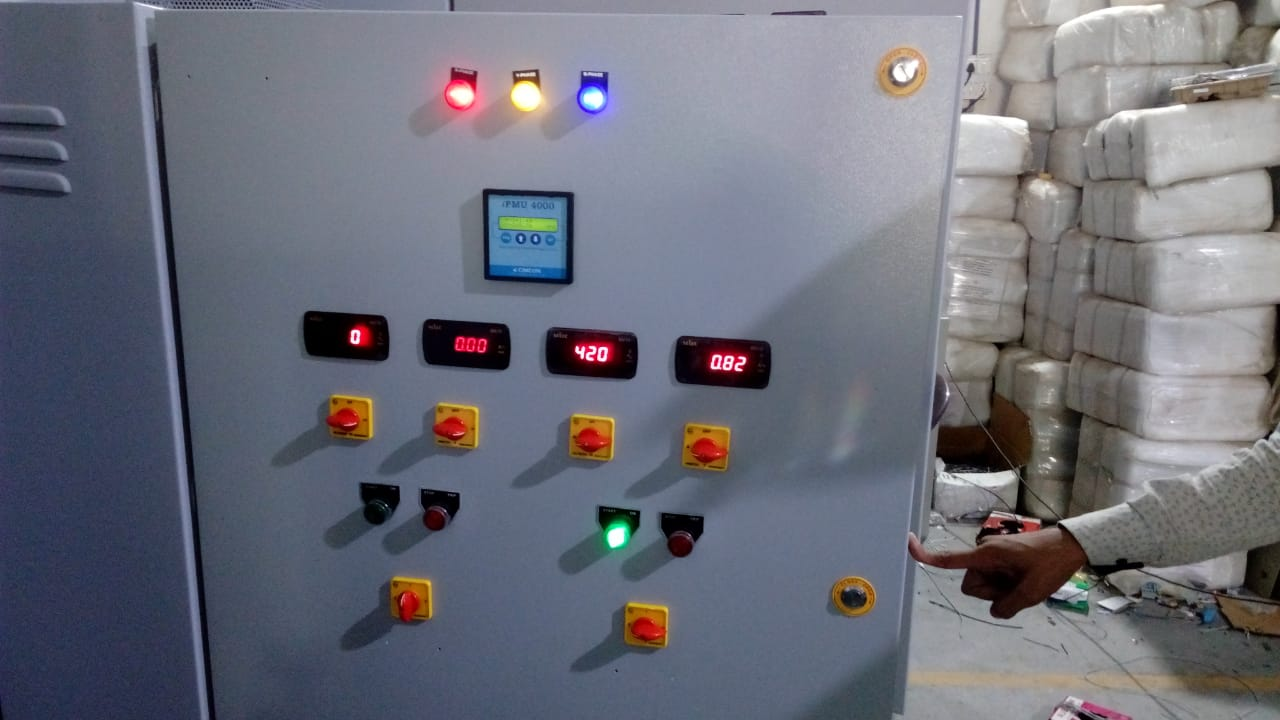Blue_Led_On: (572, 78, 616, 119)
Green_Led_Off: (356, 490, 398, 529)
Green_Led_On: (600, 519, 643, 556)
Red_Led_Off: (416, 498, 459, 541), (661, 523, 702, 566)
Red_Led_On: (437, 77, 490, 119)
Yellow_Led_On: (504, 75, 551, 120)
